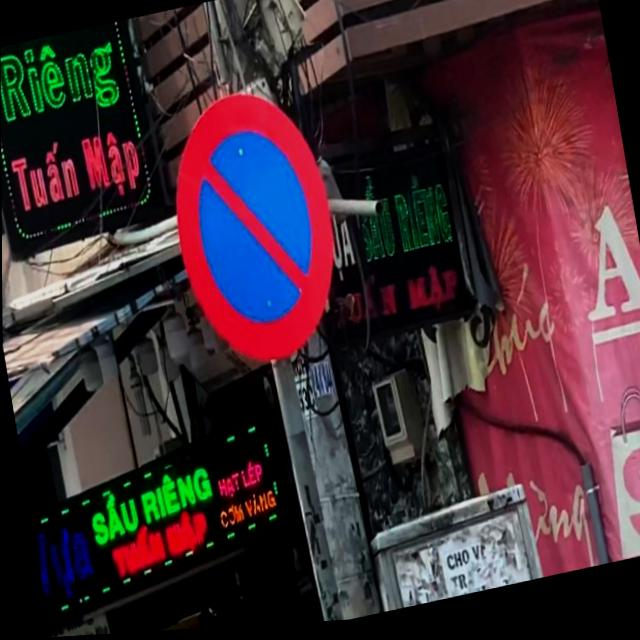Cam do xe: (157, 79, 352, 385)
